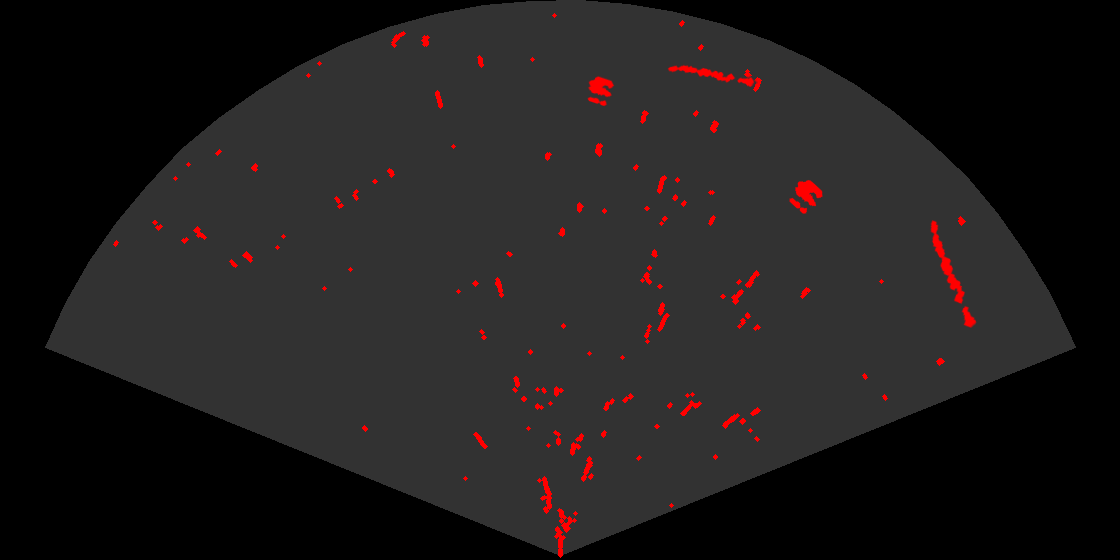ball: (788, 178, 824, 215), (586, 74, 616, 108)
chain: (929, 219, 978, 330), (666, 63, 758, 88)
